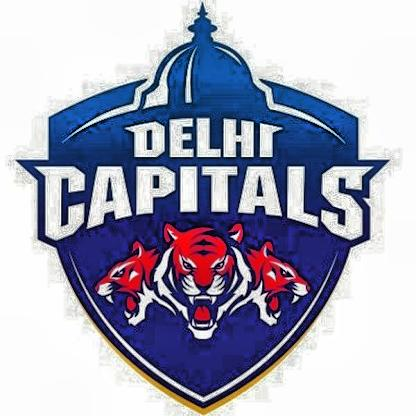Delhi Capitals: (13, 0, 392, 416)
